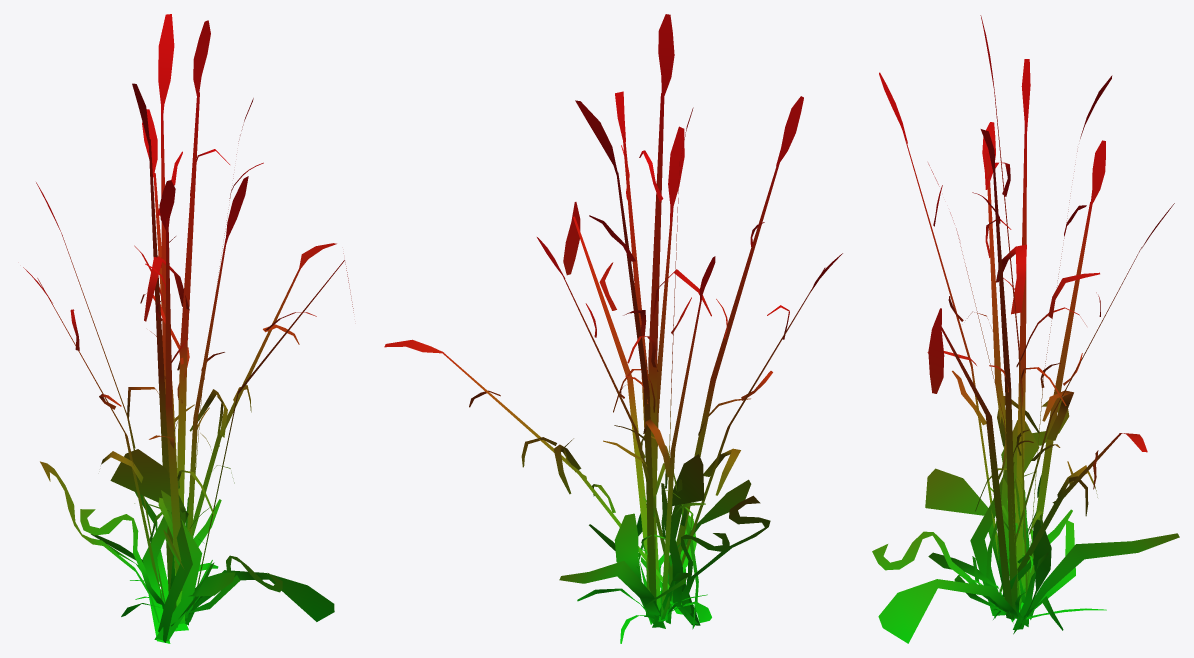
Rendered from Wheat Grass_LOD2_Var3_tdcrdbur.fbx.
3 renders of one model, left to right at view 1: azimuth 30°, elevation 25°; view 2: azimuth 150°, elevation 25°; view 3: azimuth 270°, elevation 25°, orthographic. The views are drawn at different scales.
Visible parts, largest first — view 1: _e7f6_Var3_LOD2; view 2: _e7f6_Var3_LOD2; view 3: _e7f6_Var3_LOD2.
Boxes of the visible parts, <box> form: _e7f6_Var3_LOD2: <box>23,14,353,643</box>; _e7f6_Var3_LOD2: <box>384,14,842,643</box>; _e7f6_Var3_LOD2: <box>872,15,1179,643</box>.
Size of the model in its own units: 87.08 by 130 by 58.37.
